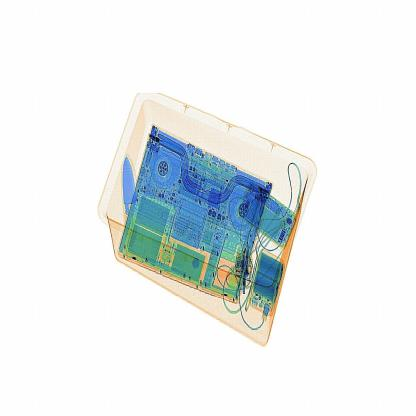wrench: (117, 152, 137, 226)
